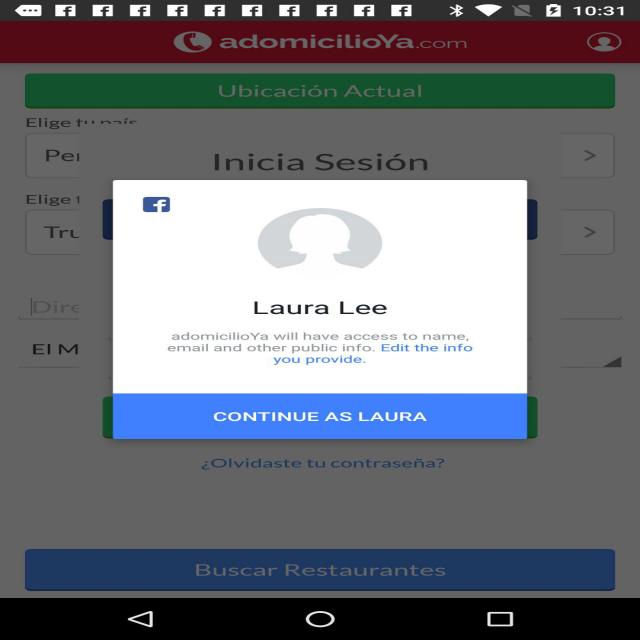button: (21, 544, 620, 592), (19, 71, 624, 113), (105, 388, 530, 442), (569, 140, 614, 173), (570, 218, 608, 244)
icon: (50, 2, 418, 19), (584, 26, 622, 55), (168, 30, 214, 53), (141, 195, 175, 214), (474, 3, 509, 18), (508, 0, 536, 18), (12, 4, 47, 18), (543, 2, 568, 21), (447, 3, 470, 20)
image: (246, 205, 390, 278)
text: (161, 330, 481, 368), (200, 146, 433, 175), (193, 452, 452, 477), (219, 35, 476, 51), (211, 409, 433, 425), (242, 300, 399, 318)
